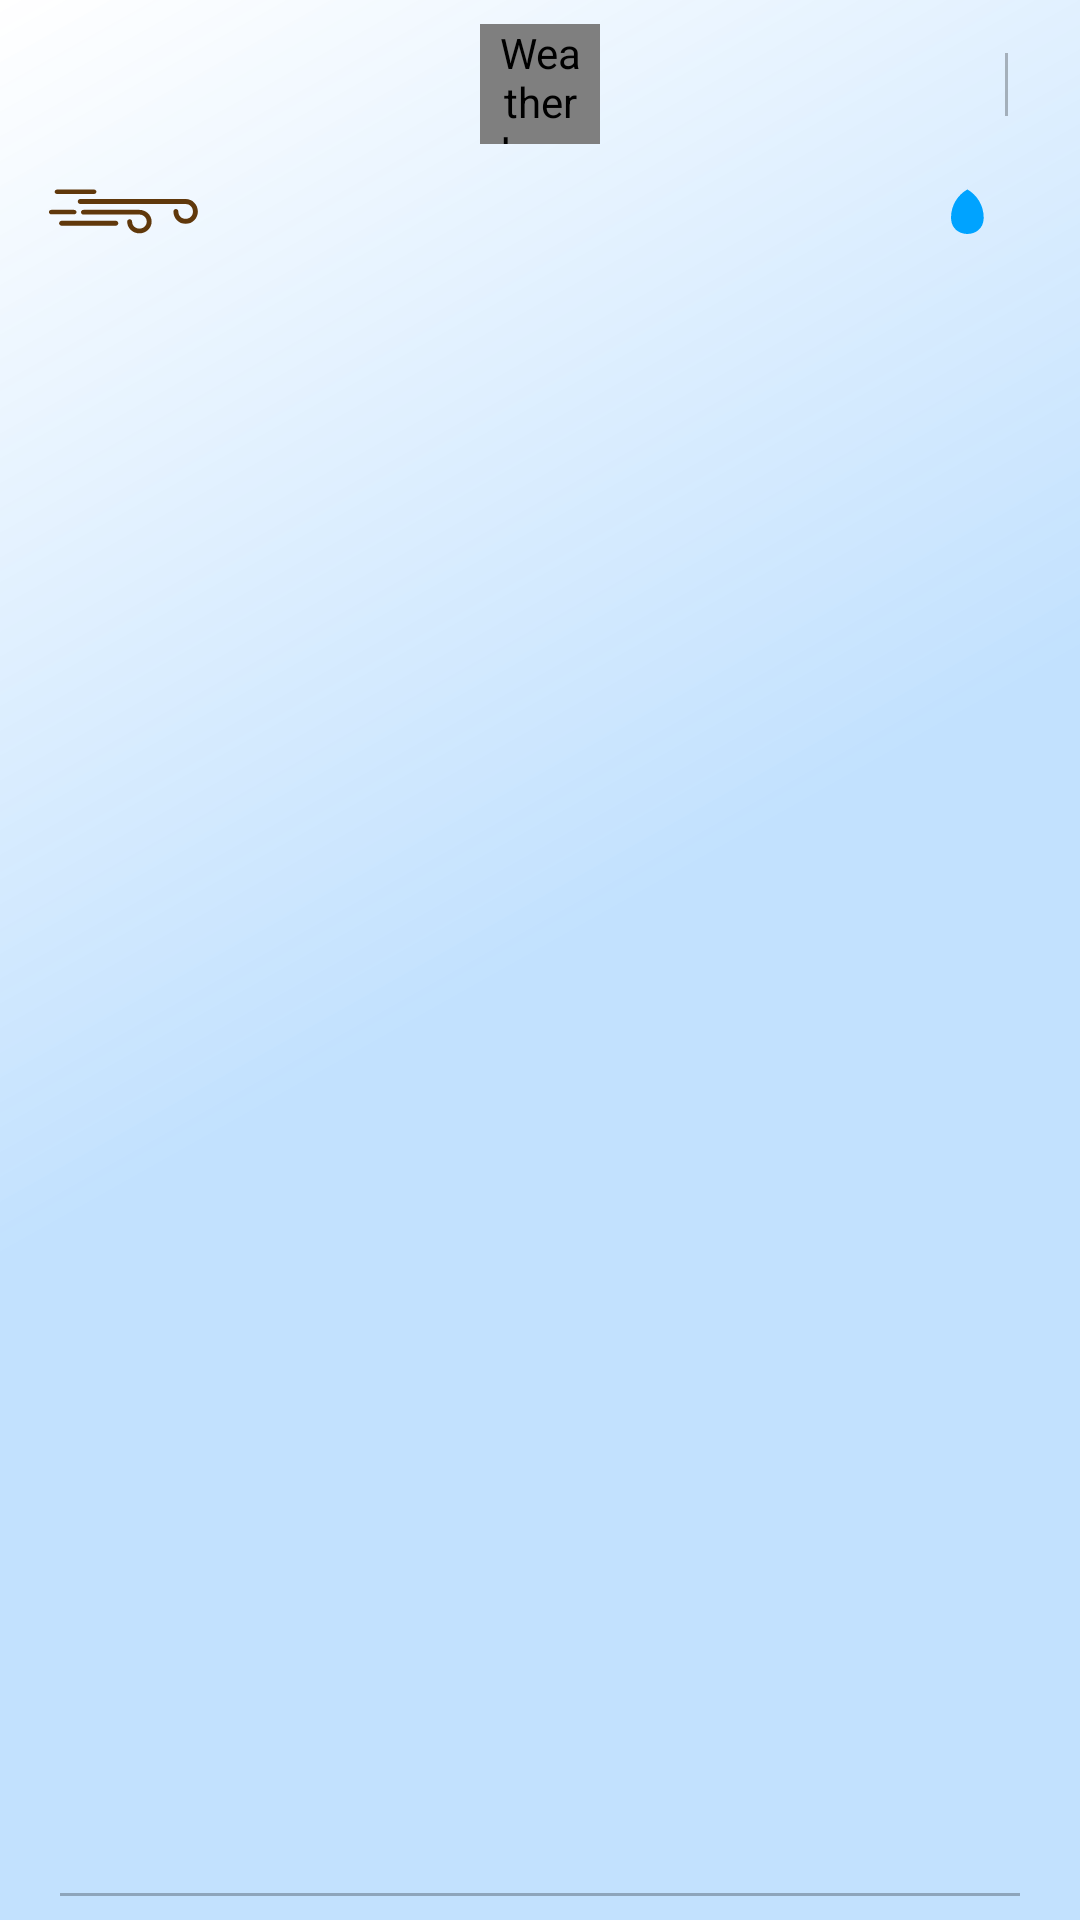

Icon bounding boxes for this 1080 x 1920 phone screenshot, format Rect(x1, y1, x2, y2):
Humidity Icon: Rect(951, 189, 984, 234)
Wind Icon: Rect(49, 189, 198, 234)
